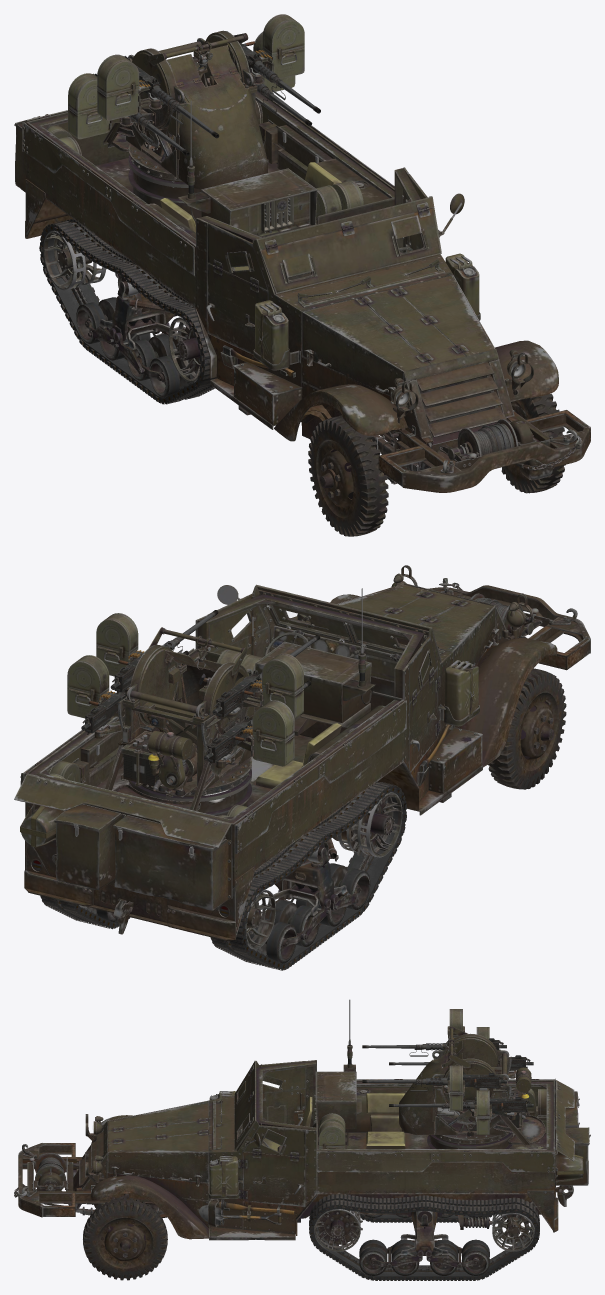
Rendered from m16_mgmc.glb.
3 renders of one model, top to bottom at view 1: azimuth 30°, elevation 25°; view 2: azimuth 150°, elevation 25°; view 3: azimuth 270°, elevation 25°, orthographic. The views are drawn at different scales.
Parts seen in each view (by area): view 1: Object_14, Object_12, Object_13, Object_15, Object_6, Object_5, Object_3, Object_10, Object_11, Object_9, Object_17, Object_7; view 2: Object_14, Object_13, Object_12, Object_6, Object_5, Object_15, Object_3, Object_11, Object_10, Object_17, Object_9, Object_7 (+1 smaller); view 3: Object_14, Object_12, Object_15, Object_13, Object_9, Object_6, Object_2, Object_5, Object_10, Object_17, Object_7, Object_3.
Part boxes in pixels (x1,y1,x2,y2): Object_14: (22,92,558,441); Object_12: (33,119,517,470); Object_13: (14,110,590,492); Object_15: (206,174,495,483); Object_6: (103,30,267,189); Object_5: (68,14,304,147); Object_3: (39,218,216,404); Object_10: (308,415,388,536); Object_11: (43,230,201,397); Object_9: (85,308,565,493); Object_17: (93,31,320,156); Object_7: (47,100,363,224); Object_14: (20,565,557,940); Object_13: (14,578,590,934); Object_12: (71,584,507,926); Object_6: (105,644,259,810); Object_5: (67,613,303,768); Object_15: (207,584,499,772); Object_3: (210,781,406,970); Object_11: (245,792,402,963); Object_10: (79,668,566,907); Object_17: (81,610,320,764); Object_9: (87,872,361,946); Object_7: (47,649,262,817); Object_14: (85,1039,555,1240); Object_12: (64,1060,555,1255); Object_15: (107,1061,305,1206); Object_13: (14,1067,590,1232); Object_9: (83,1197,489,1280); Object_6: (399,1033,545,1147); Object_2: (309,1194,539,1280); Object_5: (441,1009,516,1134); Object_10: (92,1203,534,1251); Object_17: (362,1038,533,1115); Object_7: (319,1087,546,1148); Object_3: (360,1214,493,1222).
Size of the model in its own units: 2.2 by 2.77 by 6.62.
11 materials, 11 textured.
